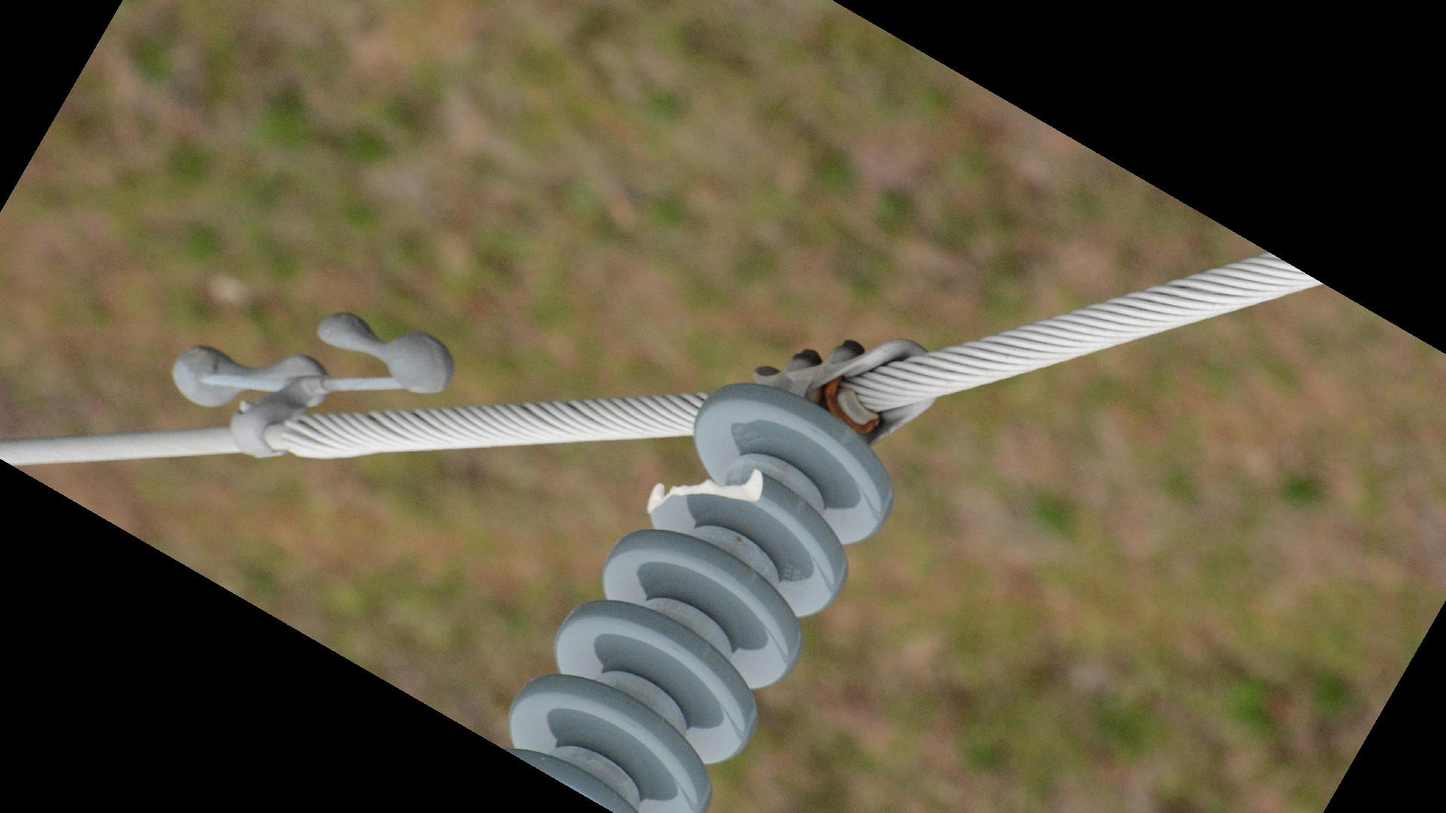insulator: (498, 376, 907, 813)
insulator_breakage: (640, 460, 773, 522)
